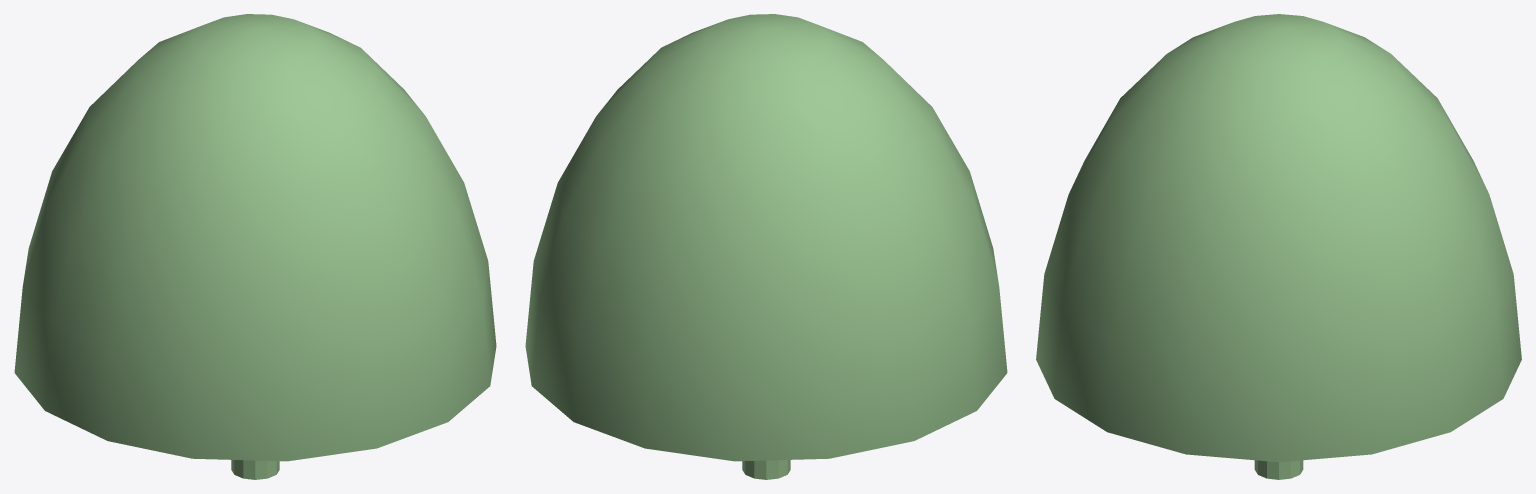
File: oak-tree.glb
3 renders of one model, left to right at view 1: azimuth 30°, elevation 25°; view 2: azimuth 150°, elevation 25°; view 3: azimuth 270°, elevation 25°, orthographic.
Visible parts, largest first — view 1: oak-tree; view 2: oak-tree; view 3: oak-tree.
Part boxes in pixels (bbox=[...]): oak-tree: bbox=[14, 14, 496, 479]; oak-tree: bbox=[525, 14, 1007, 479]; oak-tree: bbox=[1036, 14, 1521, 479].
Bounding box in the file's own units: 1 × 1 × 1.
